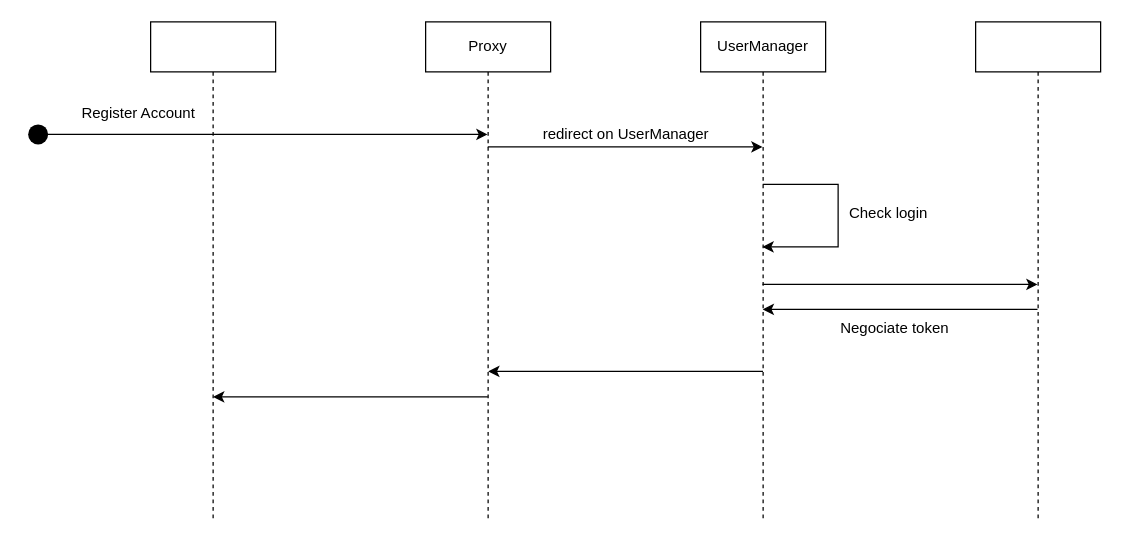
Image size: 1123x544. Some labels were removed from this diagram. The box of each missing label's shape, as (x1, y1, x2, y2) in pixels:
Interface: (149, 21, 276, 522)
Keycloak: (974, 21, 1101, 522)
